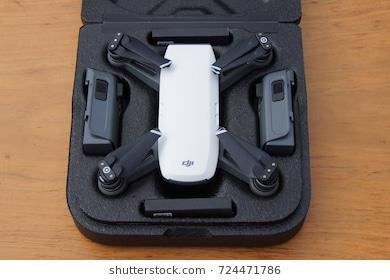drone: (90, 27, 283, 202)
